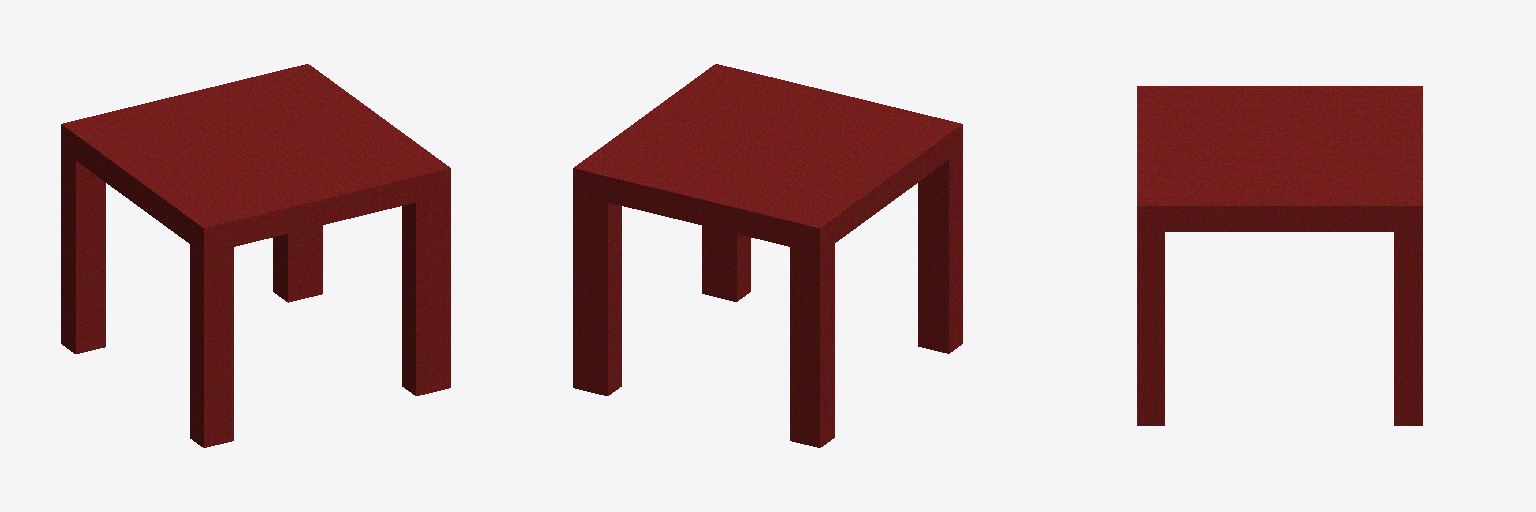
The picture shows the model from 3 angles: view 1: azimuth 30°, elevation 25°; view 2: azimuth 150°, elevation 25°; view 3: azimuth 270°, elevation 25°; orthographic projection.
Parts seen in each view (by area): view 1: Cube; view 2: Cube; view 3: Cube.
Boxes of the visible parts, <box> form: Cube: <box>61,64,450,447</box>; Cube: <box>573,64,962,447</box>; Cube: <box>1137,86,1422,425</box>.
Bounding box in the file's own units: 2 × 1.7 × 2.
Materials: 1 (1 with a texture image).